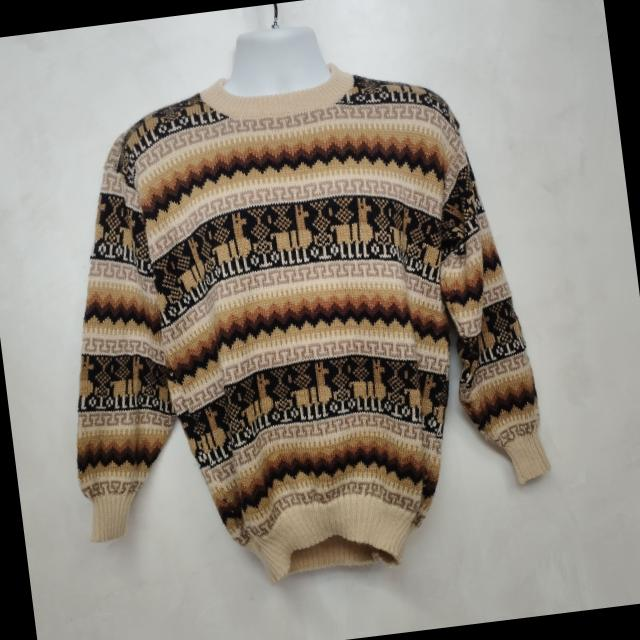Chompa: (26, 2, 560, 606)
